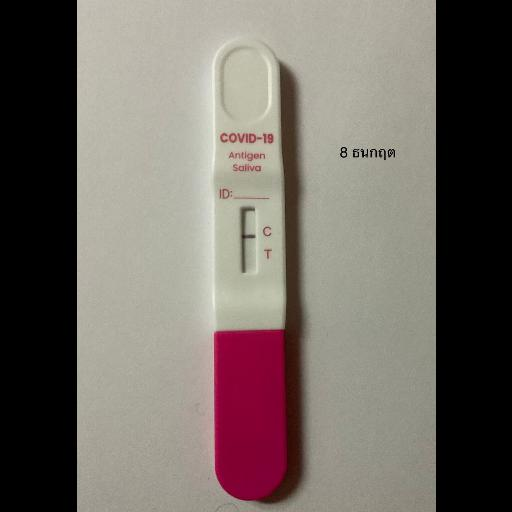Neg: (210, 38, 286, 494)
